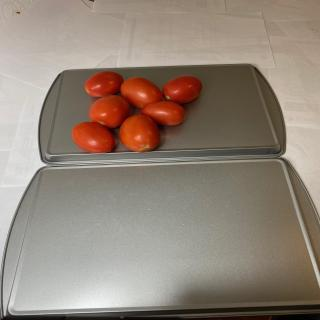Chilli: (71, 71, 202, 153)
Tomato: (119, 114, 161, 152), (88, 95, 130, 129), (71, 122, 115, 154), (120, 77, 163, 108), (162, 75, 202, 104), (140, 101, 185, 126), (84, 71, 124, 97)
